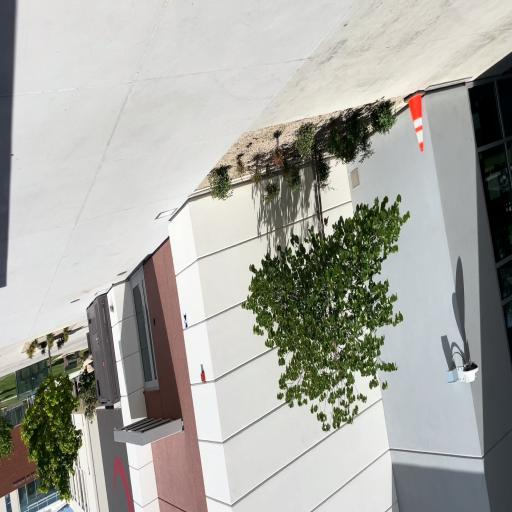target9: (183, 314, 188, 329)
